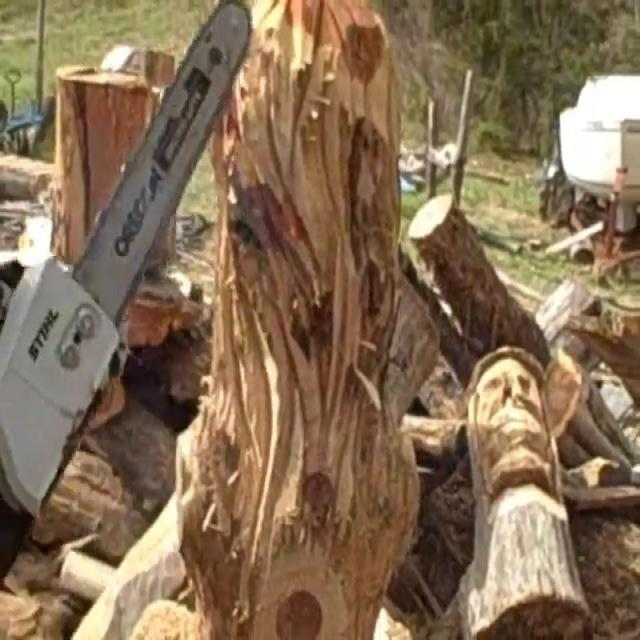Chainsaw: (0, 0, 260, 547)
